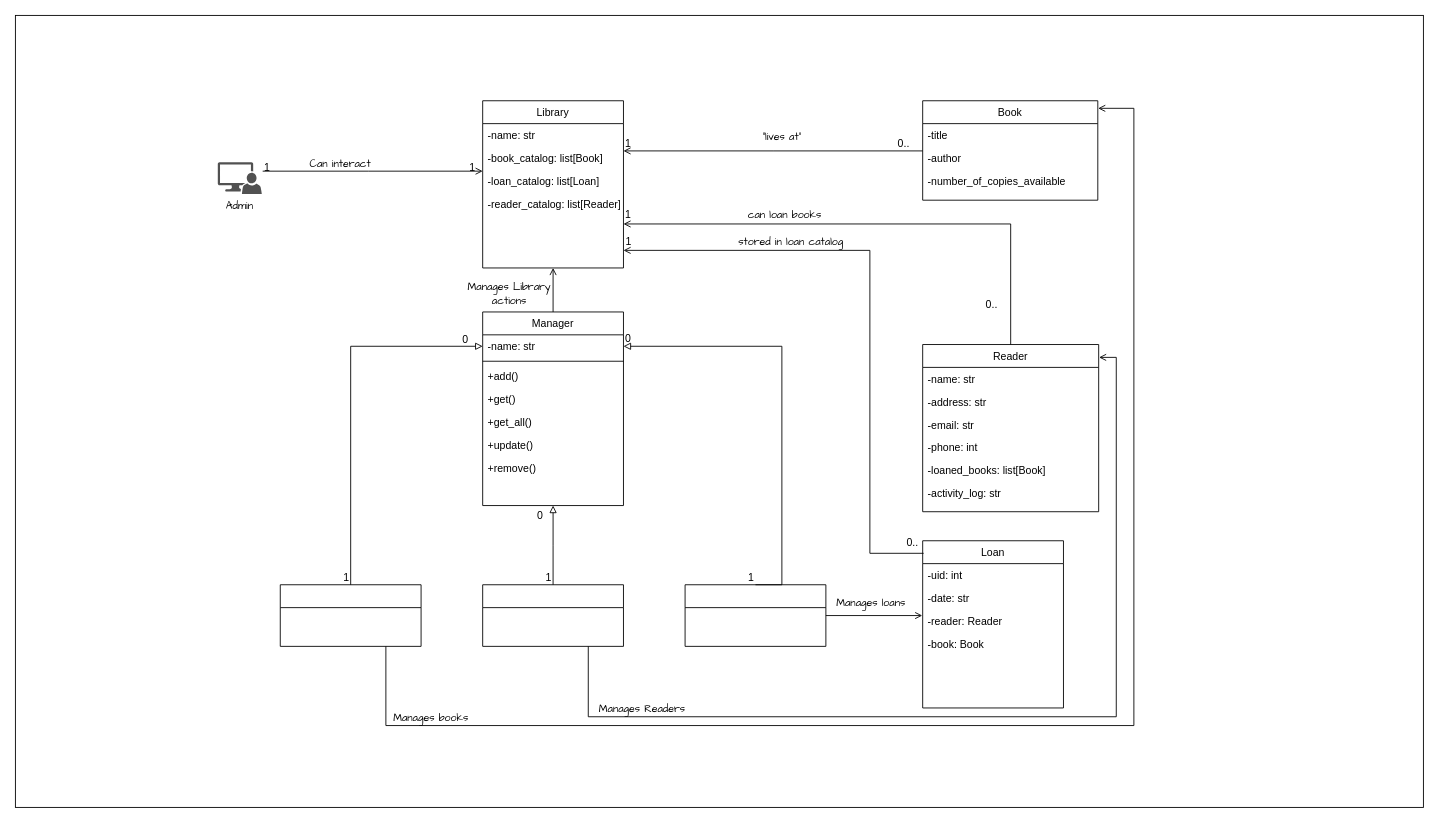
The diagram is 1439 pixels wide and 823 high, and some of its shapes have lost their labels. The shapes that lost their labels are listed below. From the top down, each one's centre as x and y in pixels, then its label:
the point at 350,615: BookManager {1}
the point at 552,615: ReaderManager {1}
the point at 755,615: LoanManager {1}
